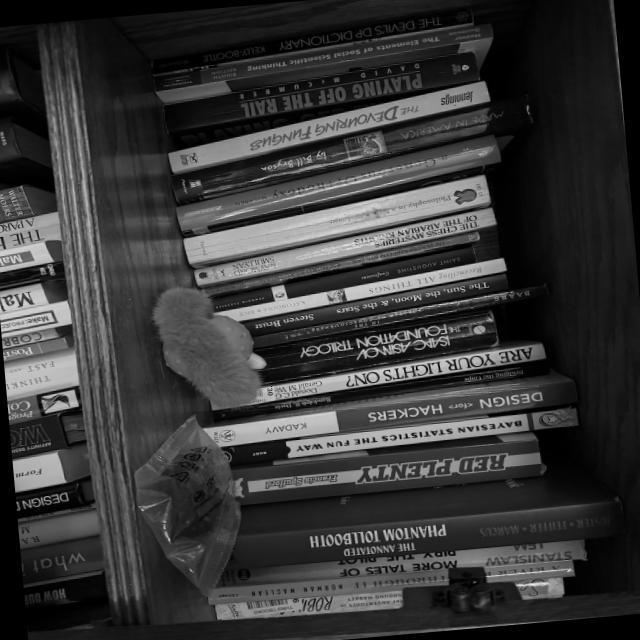book: (218, 458, 625, 573), (169, 93, 533, 206), (160, 34, 480, 152), (174, 132, 501, 236), (166, 78, 489, 176), (181, 173, 491, 270), (202, 370, 577, 449), (150, 22, 495, 105), (192, 206, 497, 289), (229, 431, 541, 506), (150, 6, 474, 77), (224, 404, 577, 466), (210, 359, 548, 422), (216, 256, 506, 326), (204, 228, 480, 301), (248, 337, 545, 404), (253, 282, 548, 349), (254, 308, 498, 385), (210, 245, 475, 314), (216, 539, 585, 588), (241, 272, 508, 339), (206, 567, 457, 606), (213, 589, 402, 620), (484, 557, 573, 585), (513, 576, 563, 600)
